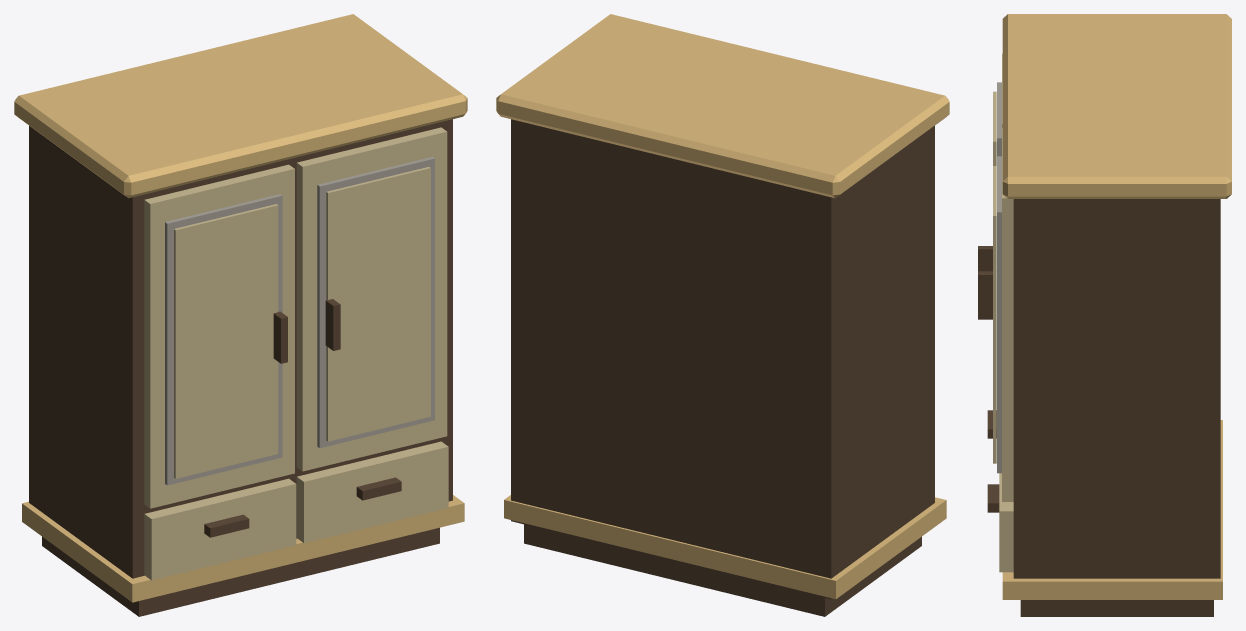
File: prop-wardrobe.glb
The picture shows the model from 3 angles, left to right: view 1: azimuth 30°, elevation 25°; view 2: azimuth 150°, elevation 25°; view 3: azimuth 270°, elevation 25°; orthographic projection.
Parts seen in each view (by area): view 1: wardrobe; view 2: wardrobe; view 3: wardrobe.
Part boxes in pixels (x1,y1,x2,y2): wardrobe: (14, 14, 467, 616); wardrobe: (496, 14, 949, 616); wardrobe: (978, 14, 1231, 616).
Bounding box in the file's own units: 0.88 × 1.1 × 0.5645.
